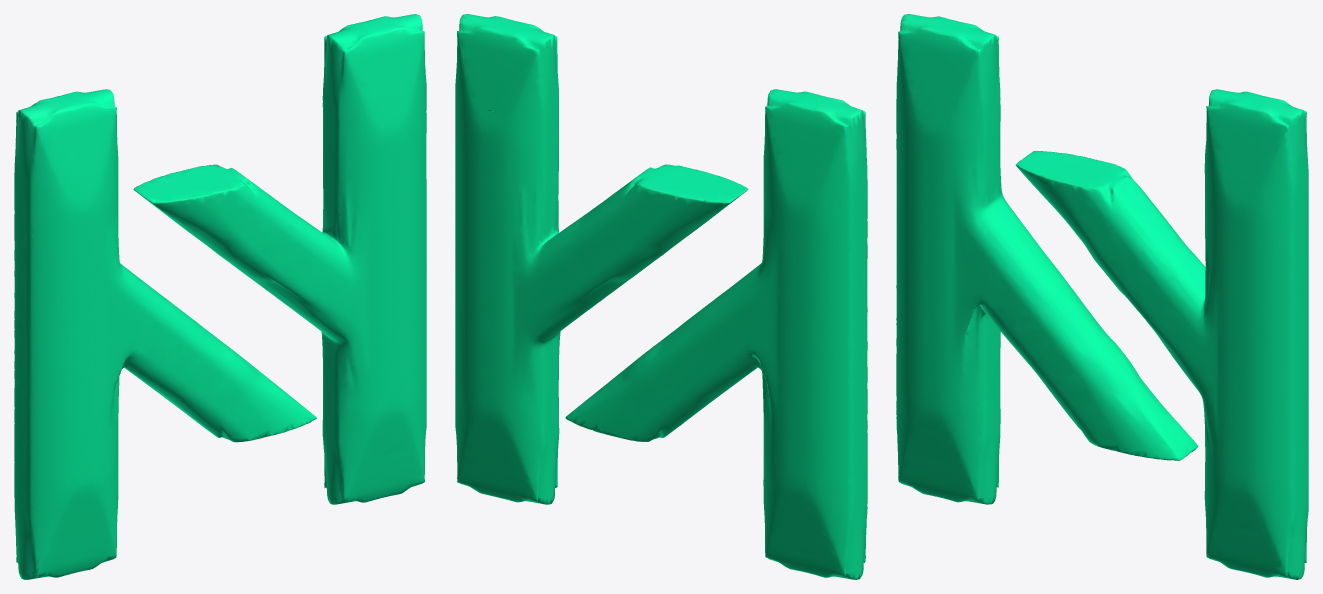
File: hearst-3d-emerald.glb
3 renders of one model, left to right at view 1: azimuth 30°, elevation 25°; view 2: azimuth 150°, elevation 25°; view 3: azimuth 330°, elevation 25°, orthographic.
Size of the model in its own units: 1.7 by 1.91 by 0.2614.
Materials: 1 (1 with a texture image).
